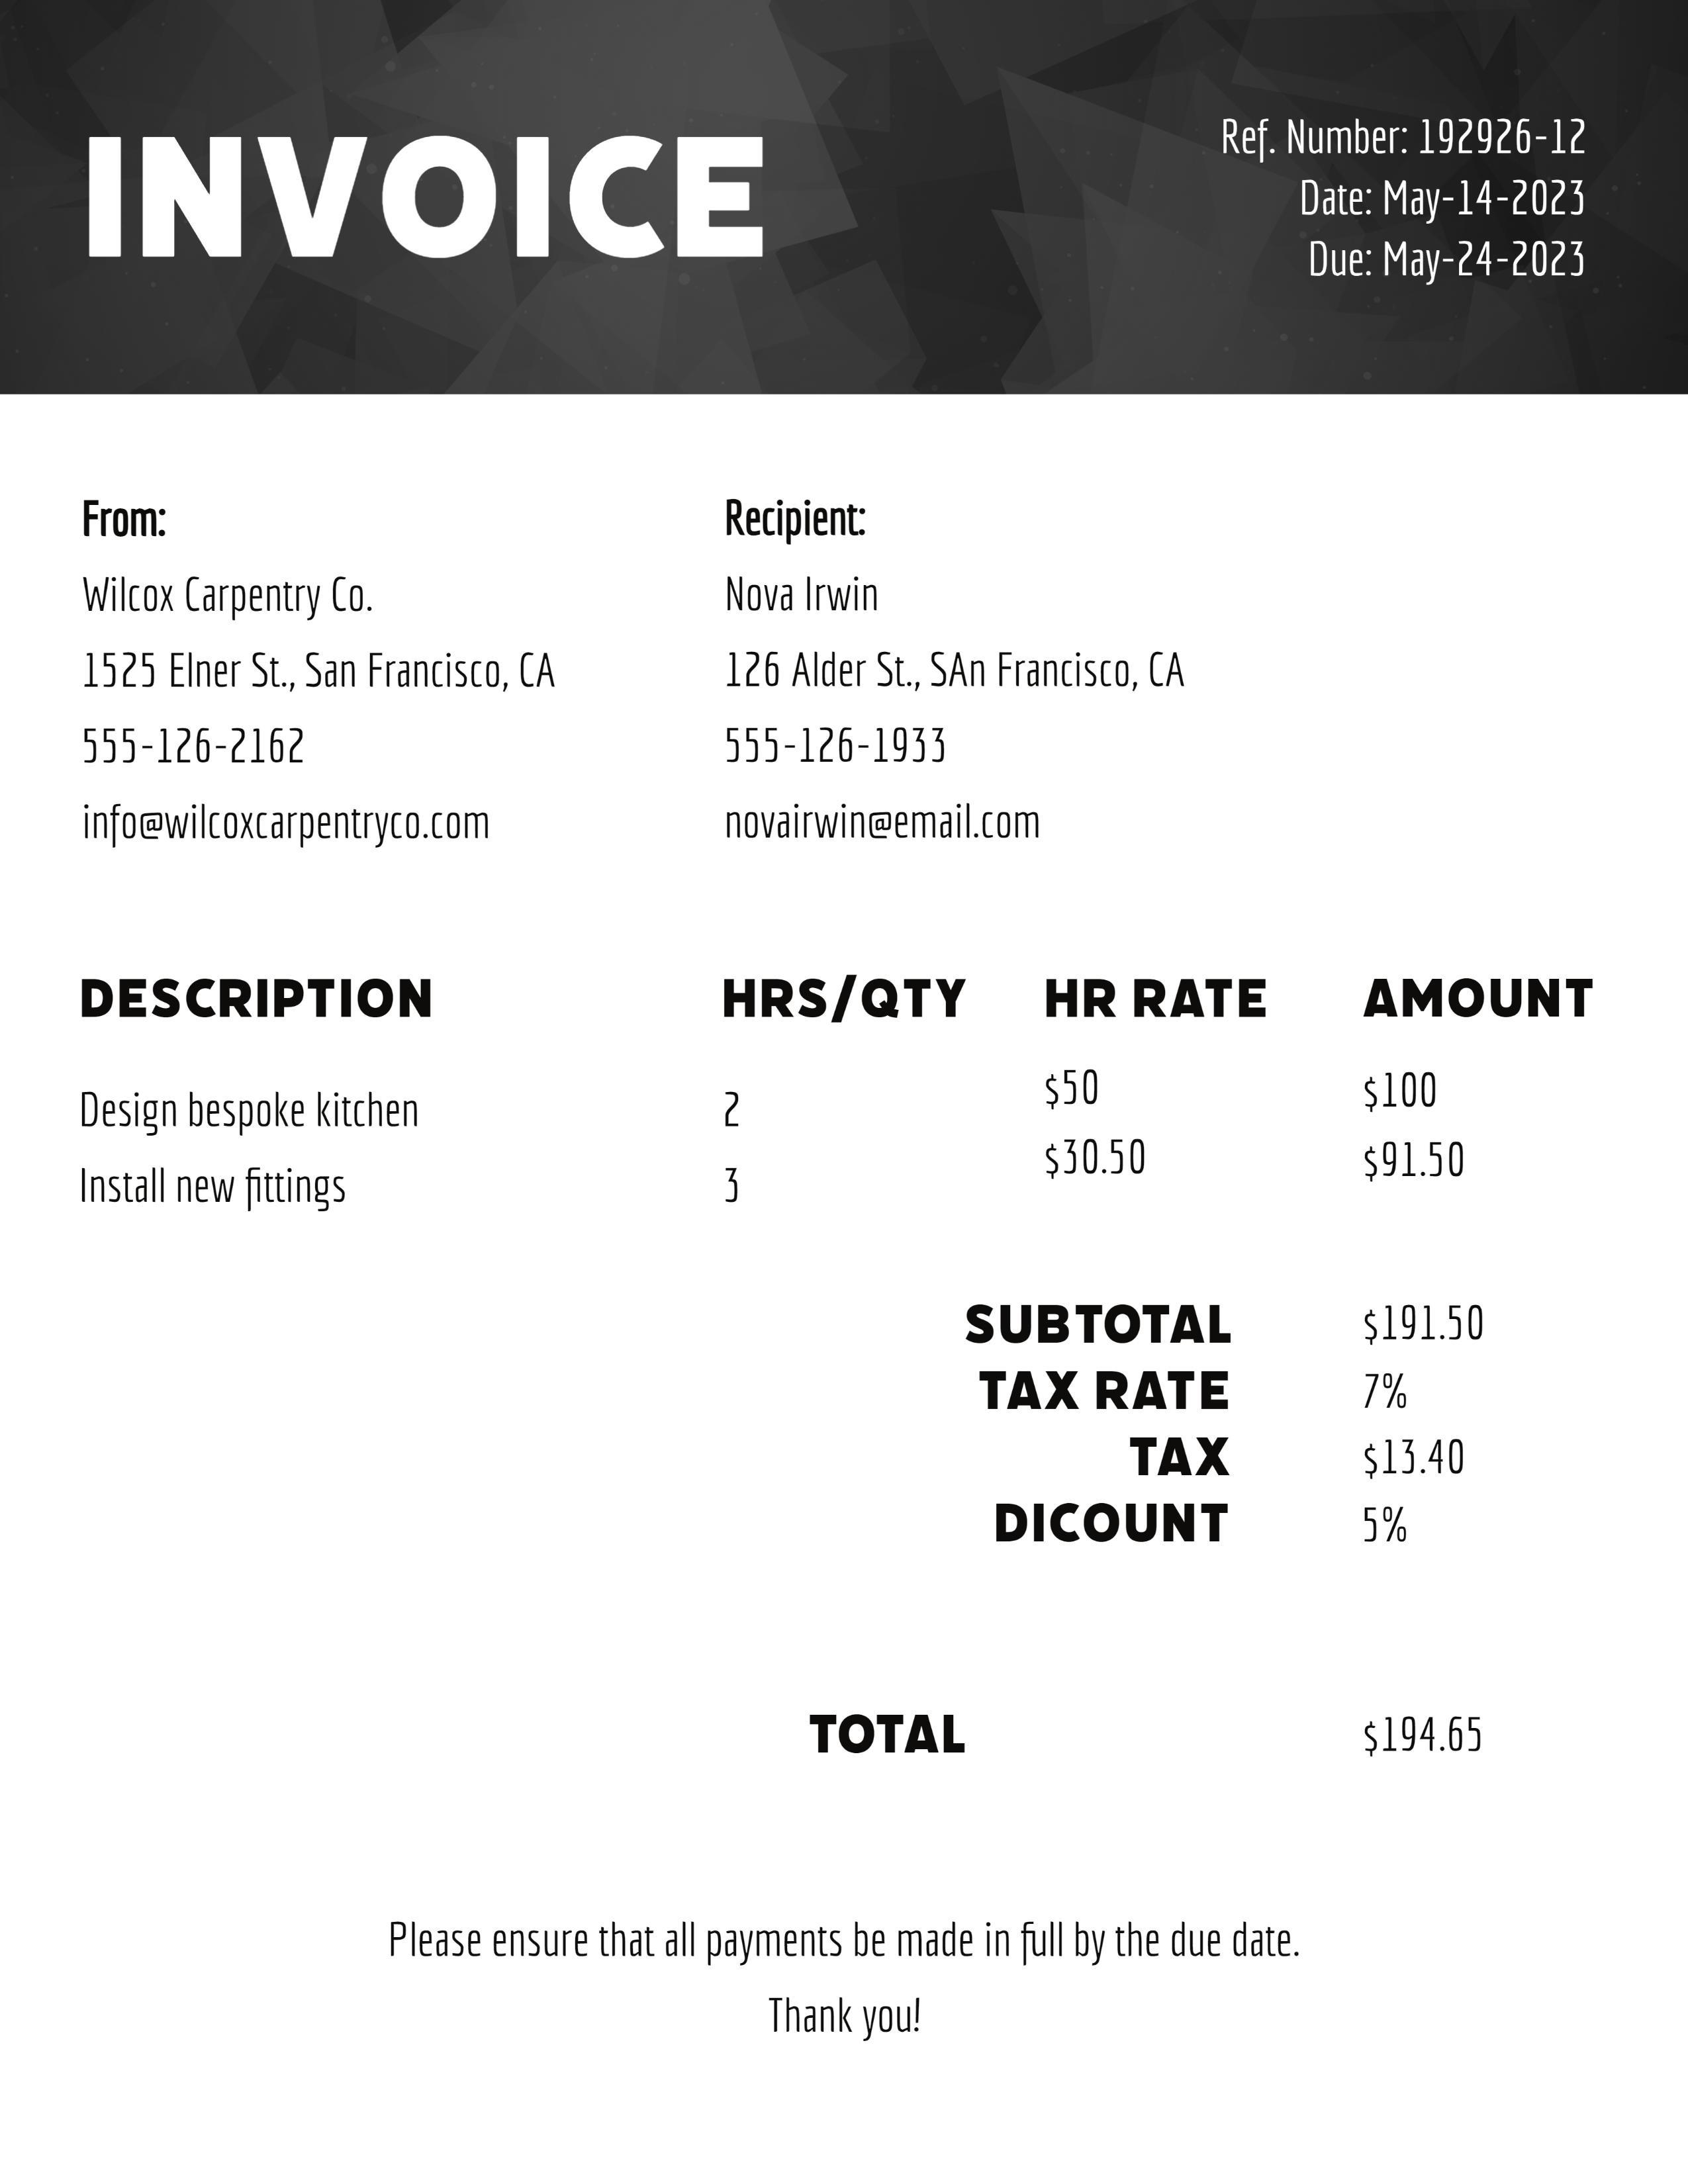ROI: (65, 962, 1605, 1218), (796, 1278, 1498, 1784), (61, 495, 586, 871), (703, 484, 1223, 842), (378, 1890, 1370, 2071), (1198, 87, 1632, 307)
